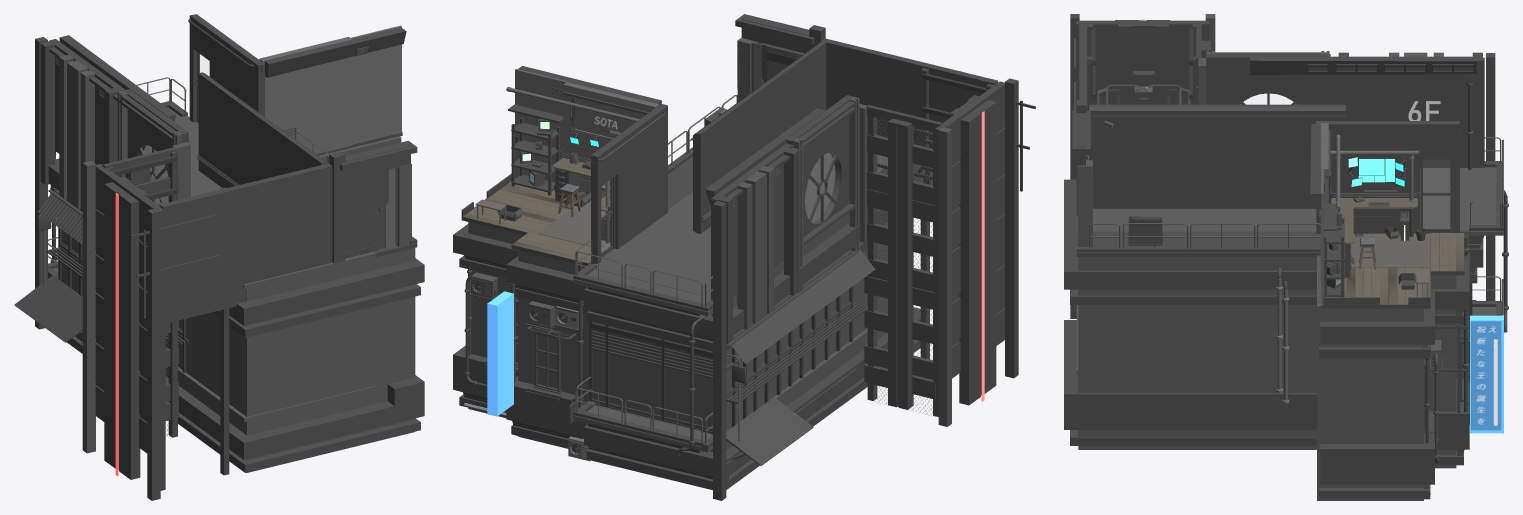
File: cyberpunk_game_scene.glb
The picture shows the model from 3 angles, left to right: view 1: azimuth 30°, elevation 25°; view 2: azimuth 150°, elevation 25°; view 3: azimuth 270°, elevation 25°; orthographic projection. The views are drawn at different scales.
Visible parts, largest first — view 1: Box225, Box201, Box514, Box198, Box059, Box432, Box325, Box323, Box062, Box515, Box516, Box223 (+37 smaller); view 2: Box225, Box514, Box198, Box323, Box201, Box067, Box500, Box325, Box223, Box432, Box452, Box515 (+52 smaller); view 3: Box225, Box370, Box323, Box376, Box325, Box067, Rectangle001, Box432, Plane020, Box342, Box200, Box080 (+30 smaller).
Boxes of the visible parts, x1=… form: Box225: x1=62, y1=136, x2=415, y2=472; Box201: x1=159, y1=163, x2=332, y2=323; Box514: x1=104, y1=182, x2=140, y2=479; Box198: x1=198, y1=72, x2=325, y2=187; Box059: x1=259, y1=37, x2=352, y2=154; Box432: x1=95, y1=163, x2=165, y2=460; Box325: x1=75, y1=330, x2=424, y2=459; Box323: x1=48, y1=158, x2=424, y2=325; Box062: x1=351, y1=25, x2=401, y2=143; Box515: x1=82, y1=161, x2=95, y2=453; Box516: x1=147, y1=208, x2=160, y2=500; Box223: x1=189, y1=15, x2=260, y2=122; Box225: x1=468, y1=212, x2=887, y2=490; Box514: x1=959, y1=100, x2=996, y2=405; Box198: x1=696, y1=41, x2=826, y2=233; Box323: x1=453, y1=209, x2=887, y2=338; Box201: x1=820, y1=38, x2=997, y2=148; Box067: x1=573, y1=153, x2=835, y2=305; Box500: x1=888, y1=118, x2=913, y2=409; Box325: x1=453, y1=307, x2=920, y2=477; Box223: x1=595, y1=105, x2=667, y2=263; Box432: x1=933, y1=81, x2=1004, y2=385; Box452: x1=713, y1=201, x2=726, y2=500; Box515: x1=938, y1=127, x2=951, y2=426; Box225: x1=1078, y1=234, x2=1468, y2=500; Box370: x1=1089, y1=106, x2=1345, y2=208; Box323: x1=1064, y1=179, x2=1483, y2=344; Box376: x1=1064, y1=378, x2=1469, y2=466; Box325: x1=1064, y1=320, x2=1469, y2=484; Box067: x1=1076, y1=185, x2=1503, y2=235; Rectangle001: x1=1316, y1=129, x2=1459, y2=233; Box432: x1=1076, y1=20, x2=1208, y2=179; Plane020: x1=1380, y1=77, x2=1473, y2=159; Box342: x1=1070, y1=267, x2=1477, y2=358; Box200: x1=1076, y1=231, x2=1320, y2=256; Box080: x1=1330, y1=57, x2=1484, y2=167.
Bounding box in the file's own units: 1194 × 855 × 1111.
27 materials, 6 textured.
